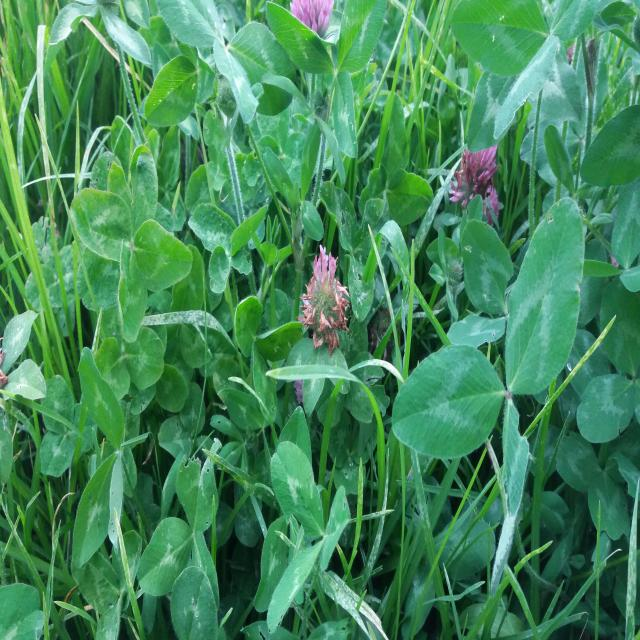Four Leaf Clover: (69, 145, 192, 342)
